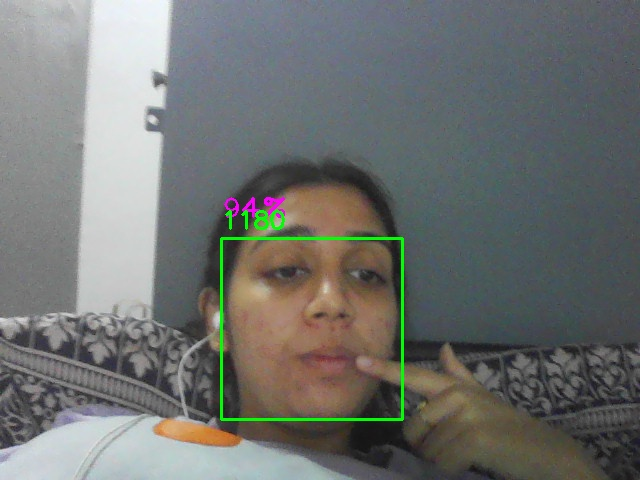real: (221, 238, 403, 420)
